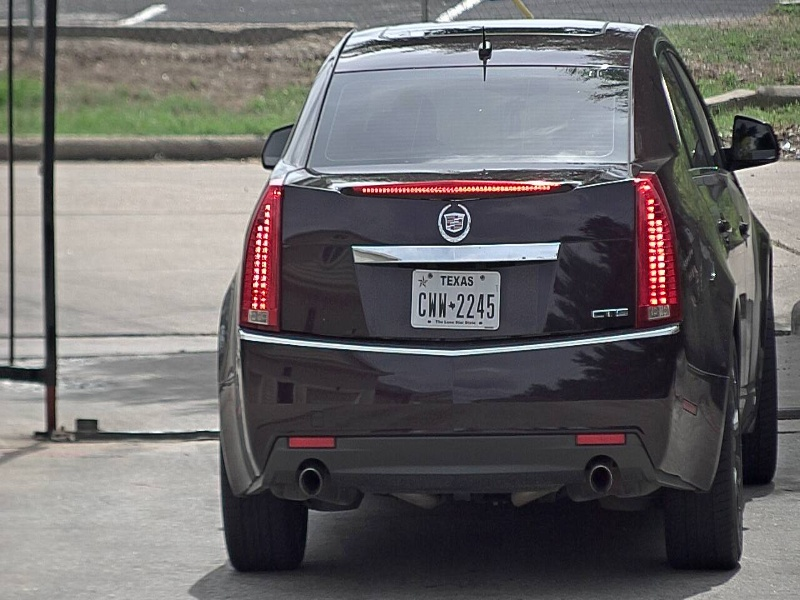licence plate: (411, 270, 500, 329)
